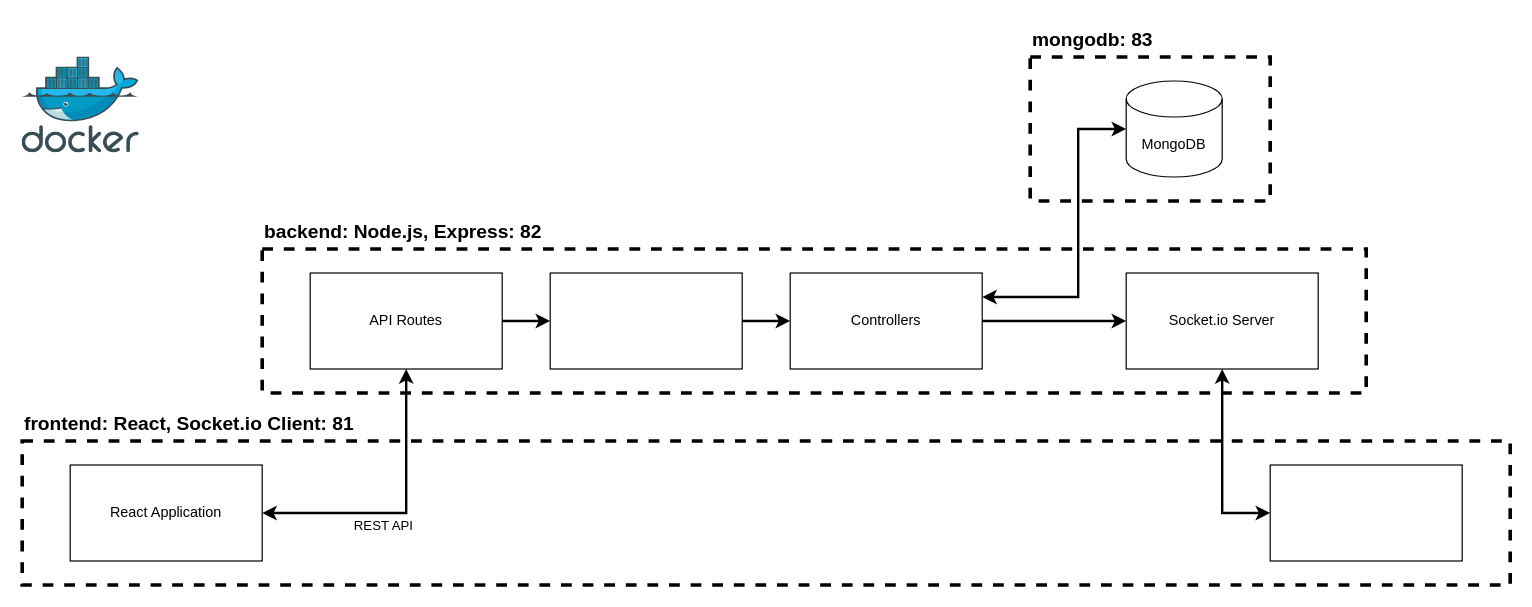
Some shapes in this 1532 by 607 pixel diagram are drawn without their labels. Here are the shapes that lost their labels. From the top down, the box of each, then its label:
(549, 272, 742, 369): Middleware: requireAuth
(1269, 464, 1462, 561): Socket.io Client
